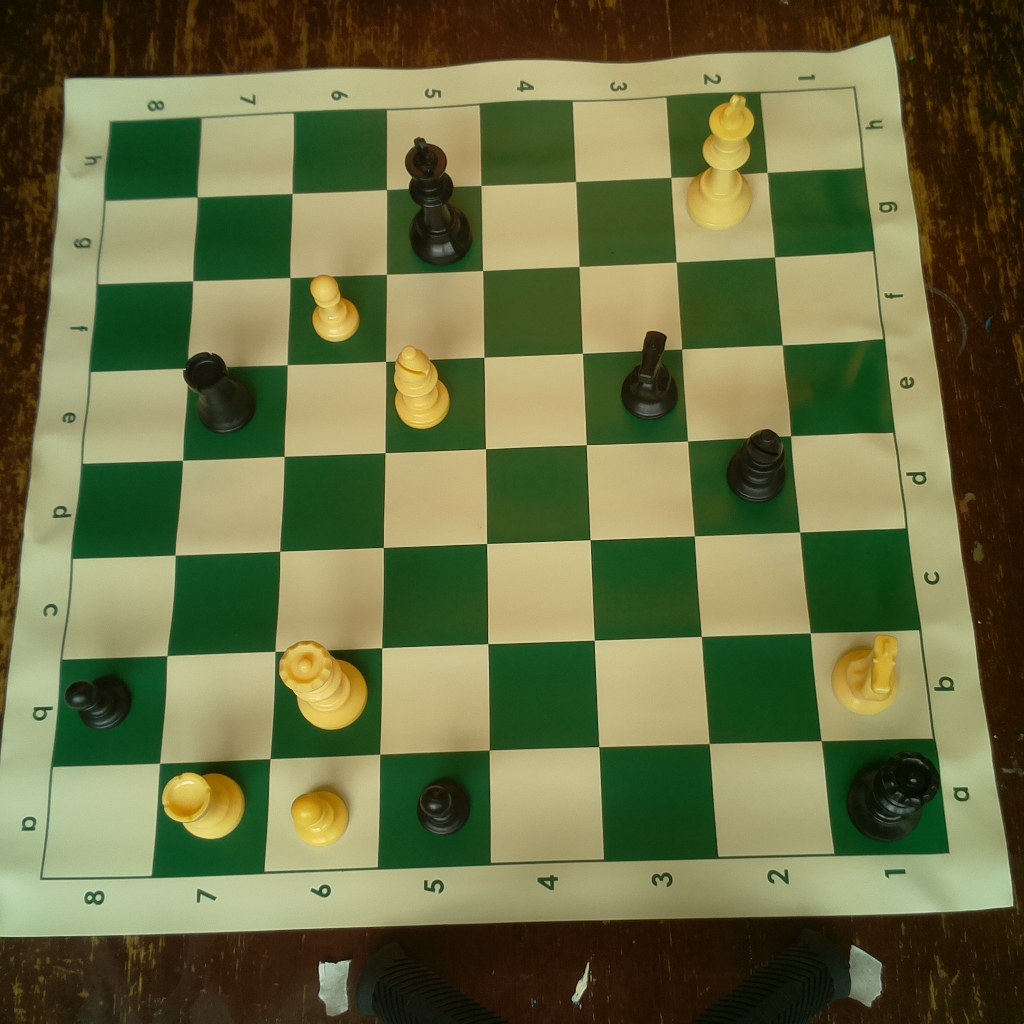black_bishop: (723, 425, 790, 506)
black_king: (399, 132, 477, 266)
black_knight: (615, 326, 684, 426)
black_pawn: (64, 667, 138, 730), (407, 773, 476, 838)
black_queen: (844, 748, 942, 845)
black_rook: (177, 349, 258, 434)
file_a: (40, 738, 946, 883)
file_b: (53, 628, 934, 766)
file_c: (63, 527, 921, 661)
file_d: (73, 430, 907, 560)
file_e: (81, 339, 893, 465)
file_f: (90, 249, 884, 371)
file_g: (96, 167, 873, 283)
file_h: (105, 87, 867, 204)
outline: (38, 88, 949, 880)
rank_1: (763, 88, 951, 857)
rank_2: (666, 92, 836, 857)
rank_3: (573, 93, 721, 860)
rank_4: (480, 100, 606, 862)
rank_5: (373, 101, 493, 869)
rank_6: (262, 112, 390, 870)
rank_7: (150, 110, 294, 883)
rank_8: (40, 117, 201, 882)
white_bishop: (388, 341, 450, 435)
white_king: (684, 90, 759, 238)
white_knight: (829, 632, 905, 714)
white_pawn: (289, 783, 358, 844), (310, 273, 364, 341)
white_queen: (279, 638, 375, 734)
white_rook: (160, 762, 250, 841)
